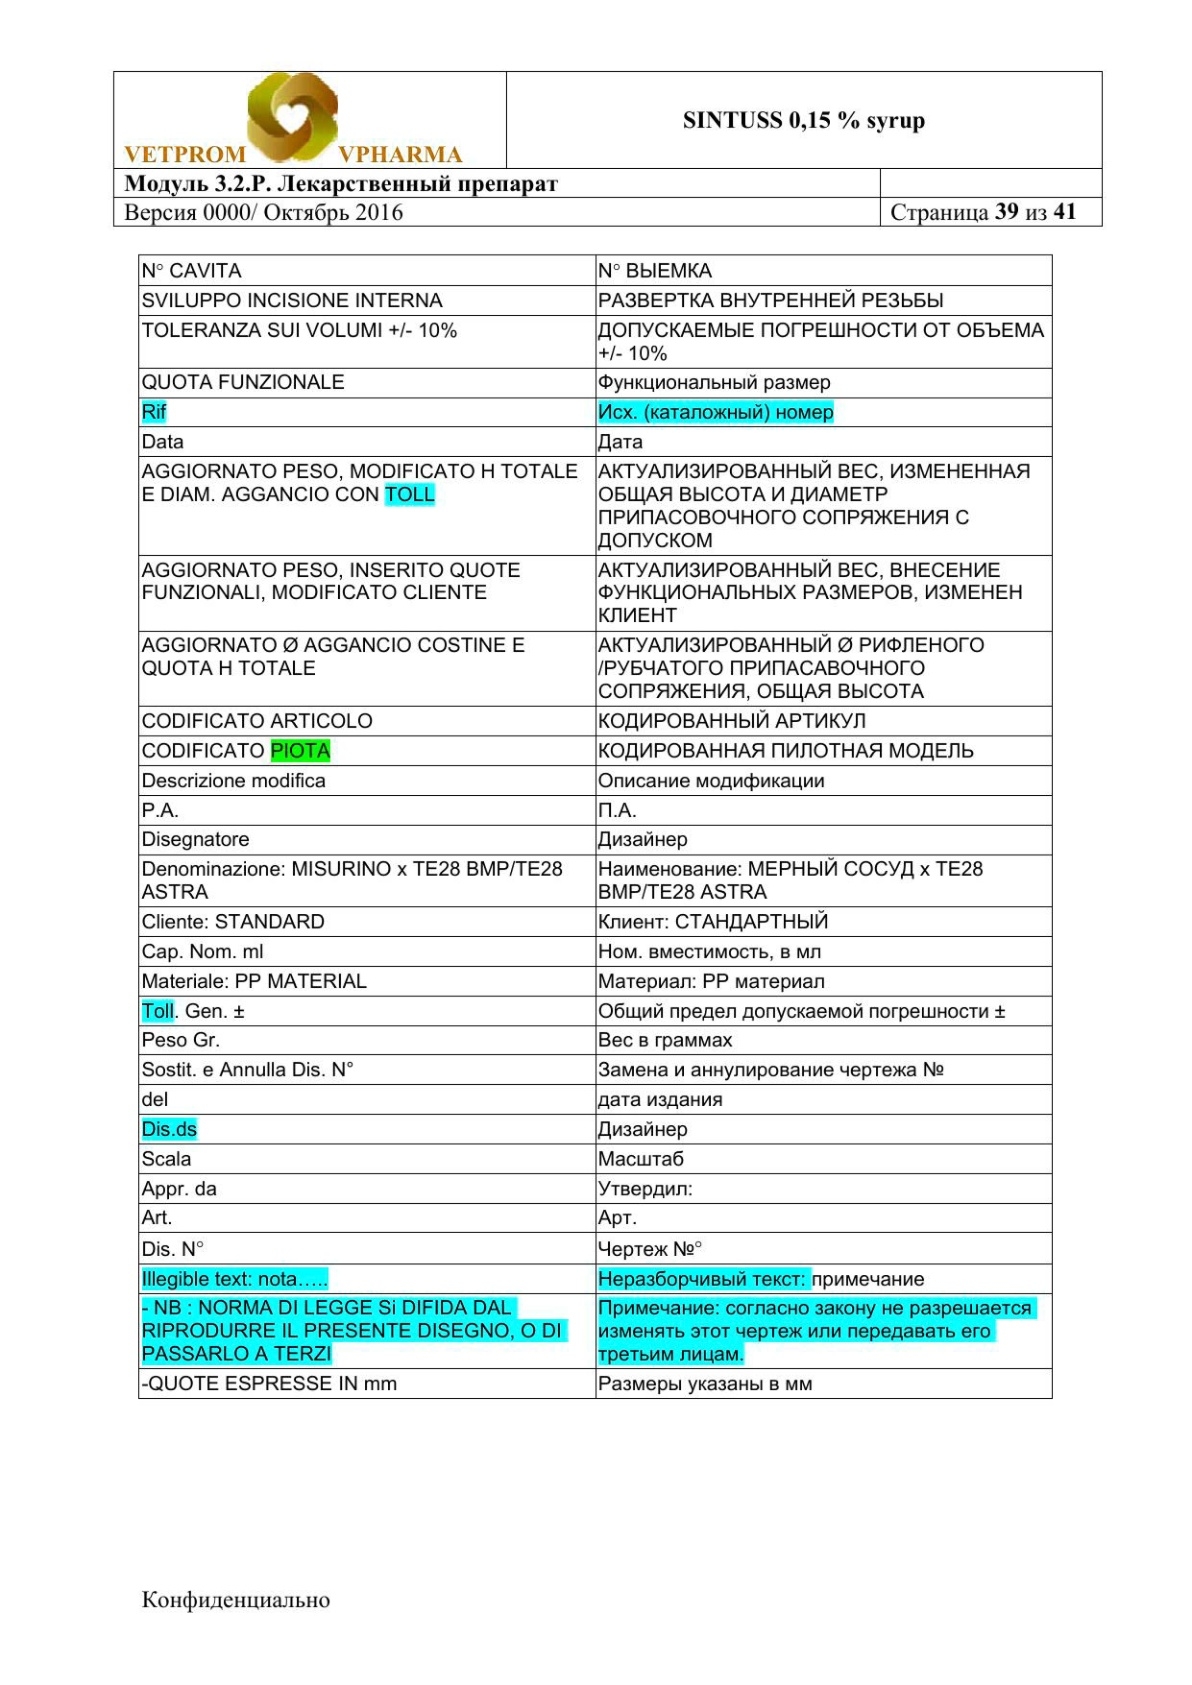full_lined: (137, 253, 1053, 1399)
merged_cells: (112, 70, 1104, 227)
